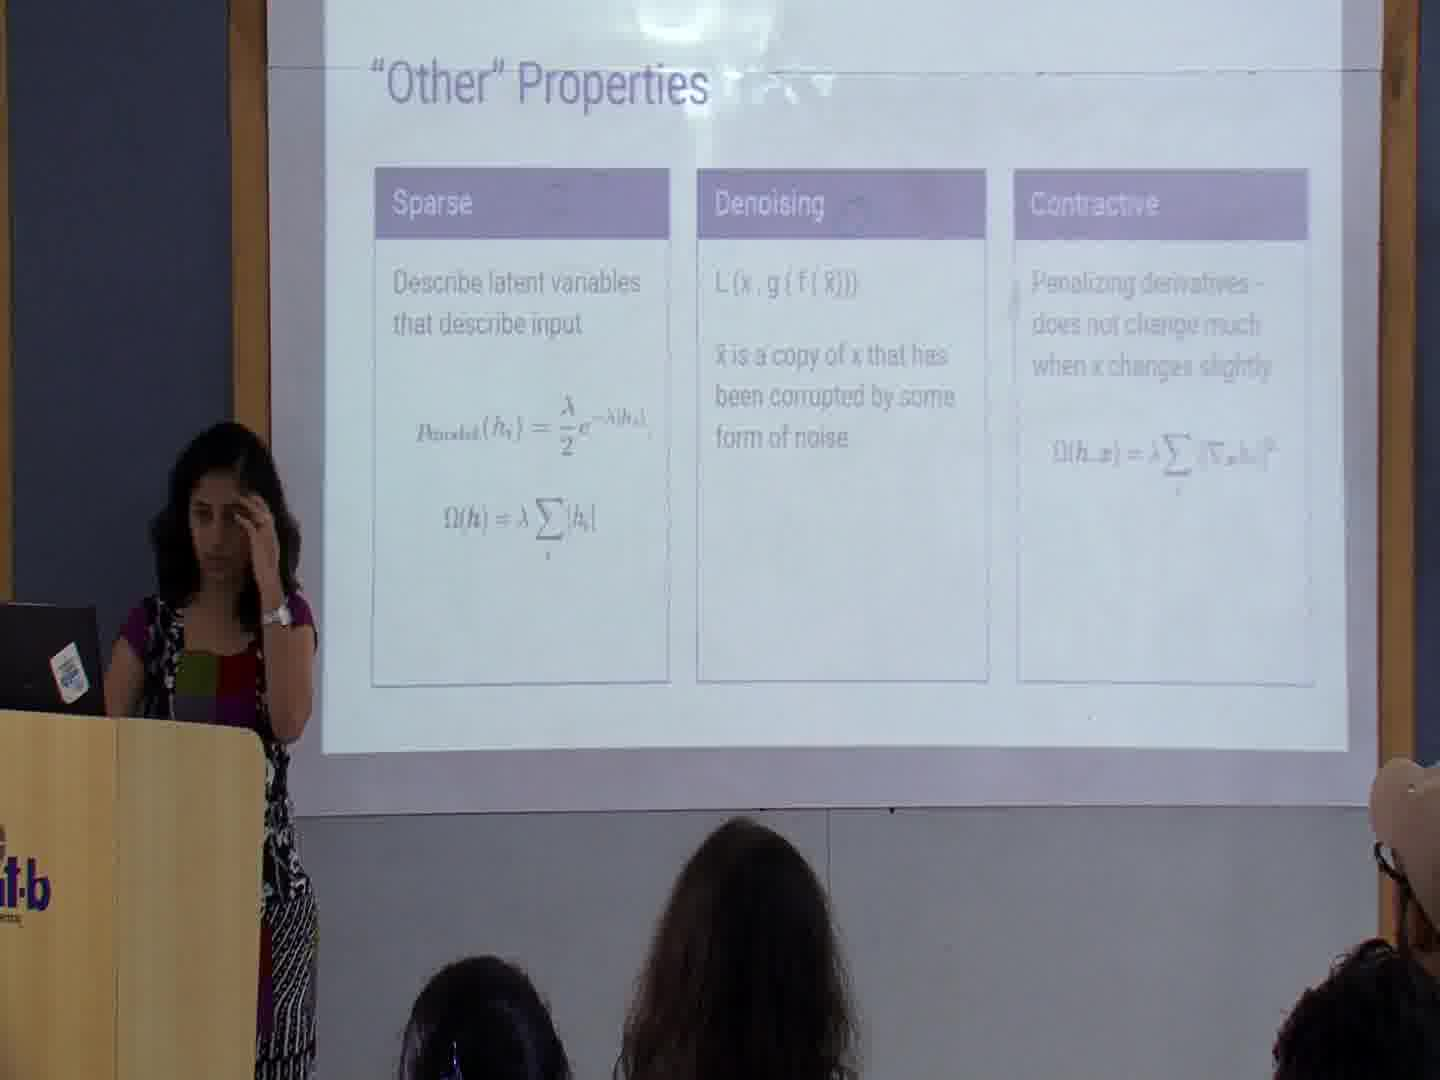eq: (1050, 425, 1288, 503), (410, 393, 657, 455), (439, 487, 605, 565), (706, 262, 865, 306)
